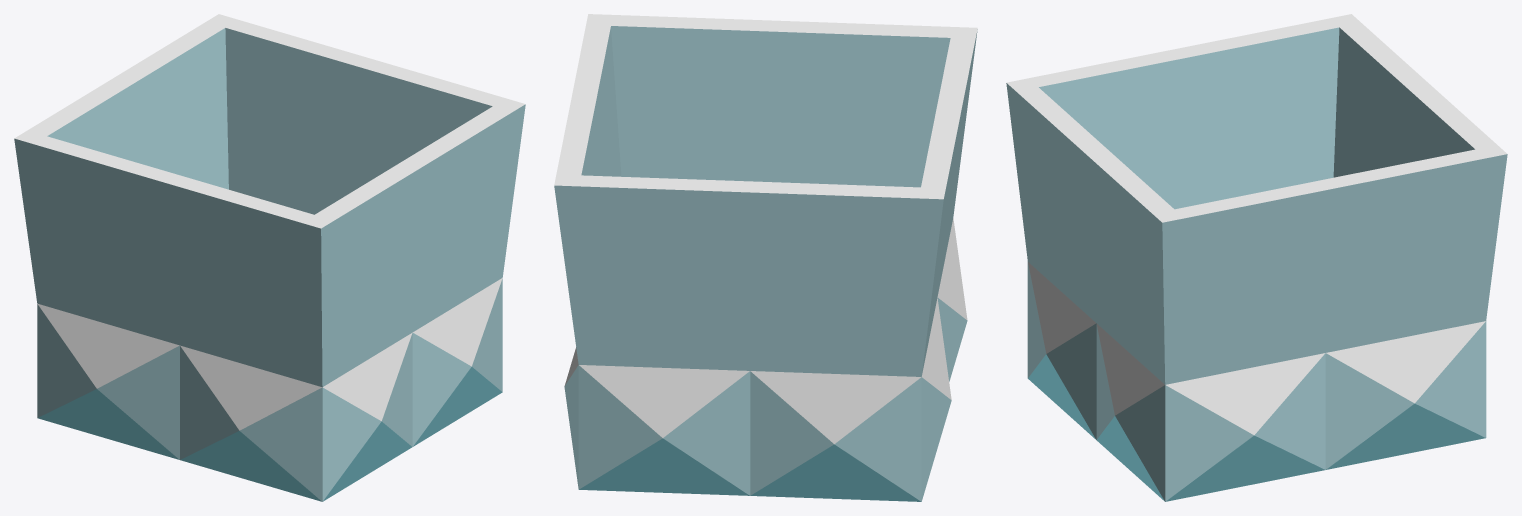
File: Puzzle04_WGlass.glb
3 renders of one model, left to right at view 1: azimuth 30°, elevation 25°; view 2: azimuth 150°, elevation 25°; view 3: azimuth 270°, elevation 25°, orthographic. The views are drawn at different scales.
Visible parts, largest first — view 1: Puzzle04_WGlass; view 2: Puzzle04_WGlass; view 3: Puzzle04_WGlass.
Boxes of the visible parts, x1=… form: Puzzle04_WGlass: x1=14, y1=14, x2=525, y2=501; Puzzle04_WGlass: x1=554, y1=14, x2=977, y2=501; Puzzle04_WGlass: x1=1006, y1=14, x2=1507, y2=501.
Bounding box in the file's own units: 0.2076 × 0.1345 × 0.2107.
Materials: 1 (1 with a texture image).
